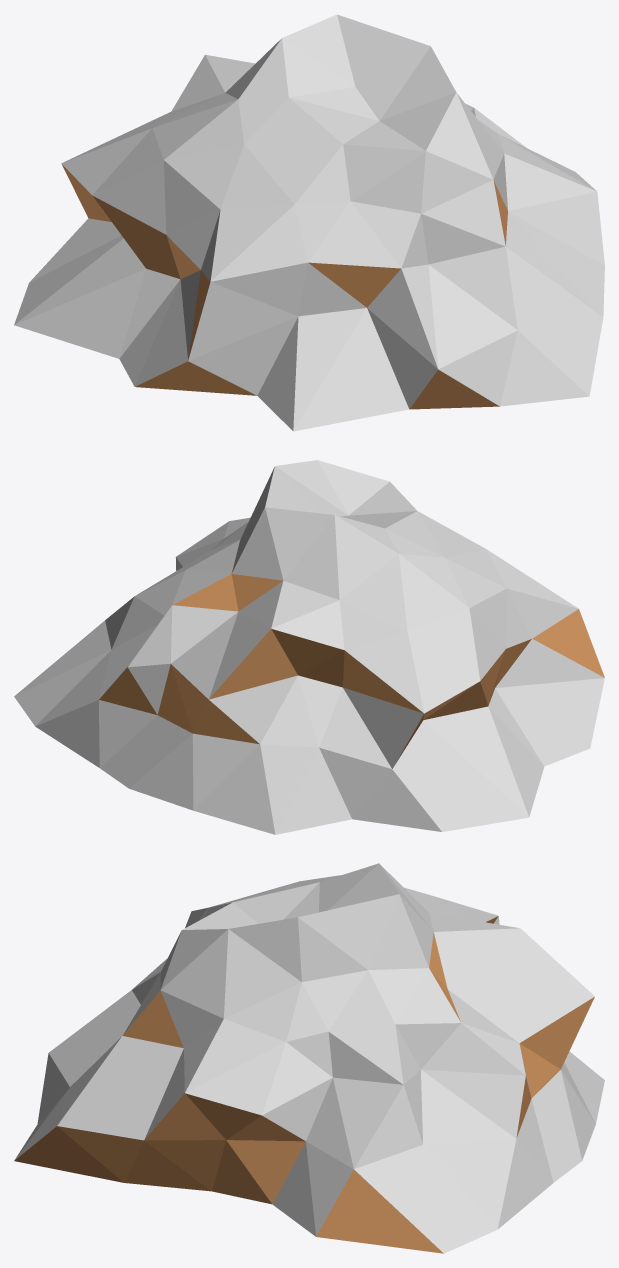
File: hay_snow_mat.fbx
The picture shows the model from 3 angles, top to bottom: view 1: azimuth 30°, elevation 25°; view 2: azimuth 150°, elevation 25°; view 3: azimuth 270°, elevation 25°; orthographic projection. The views are drawn at different scales.
Parts seen in each view (by area): view 1: hay_snow_mat; view 2: hay_snow_mat; view 3: hay_snow_mat.
Boxes of the visible parts, <box> form: hay_snow_mat: <box>14,14,604,431</box>; hay_snow_mat: <box>14,460,604,834</box>; hay_snow_mat: <box>14,863,604,1253</box>.
Size of the model in its own units: 115 by 49.5 by 110.
